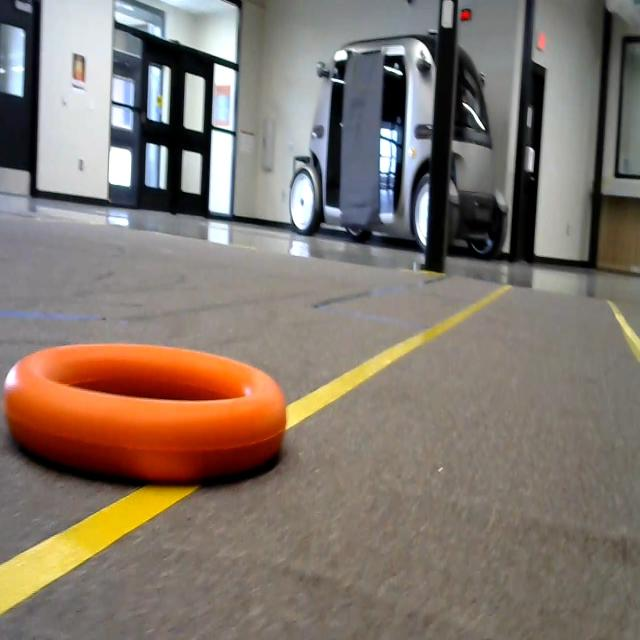note: (0, 314, 304, 509)
